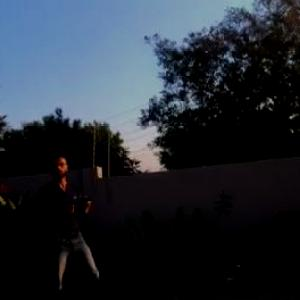follow: (32, 139, 119, 299)
